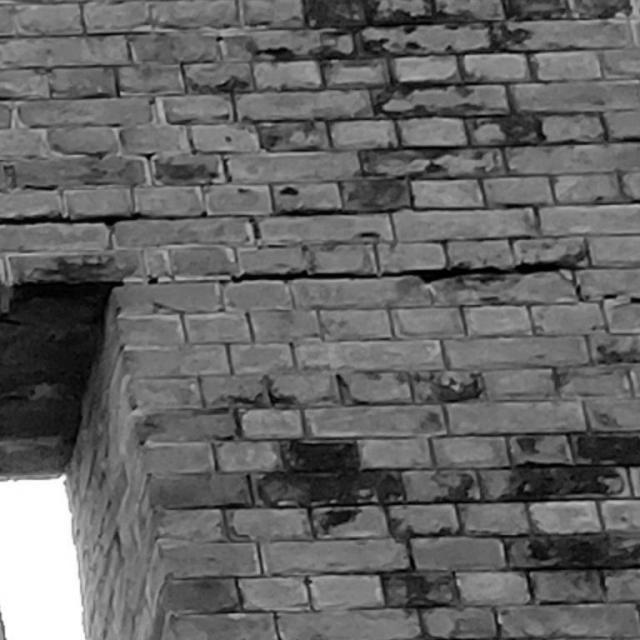crack: (231, 267, 639, 303), (1, 212, 186, 232)
